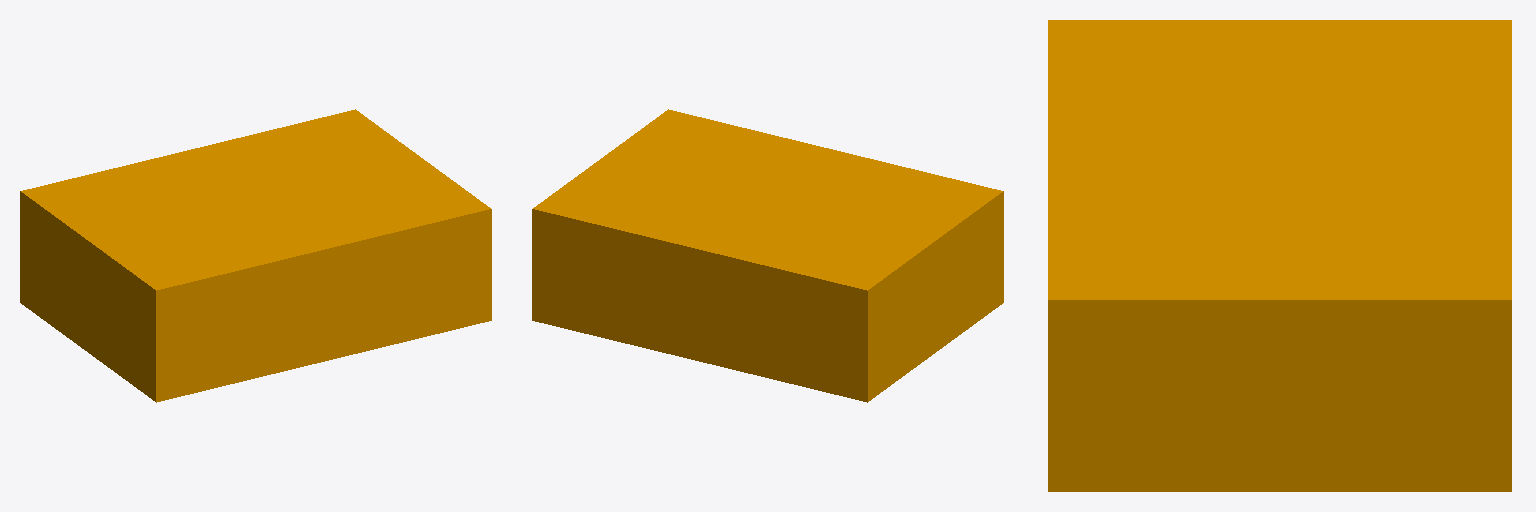
robot.urdf — 2x2:
<?xml version='1.0' encoding='UTF-8'?>
<robot name="2x2">
  <link name="base_link">
    <inertial>
      <origin xyz="0.0 0.0 0.0" rpy="0.0 0.0 0.0"/>
      <mass value="0.01"/>
      <inertia ixx="0.1" ixy="0.0" ixz="0.0" iyy="0.1" iyz="0.0" izz="0.1"/>
    </inertial>
    <visual>
      <geometry>
        <box size="0.047 0.033 0.015"/>
      </geometry>
      <material name=""/>
      <origin xyz="0.0 0.0 0.0" rpy="0.0 0.0 0.0"/>
    </visual>
    <collision>
      <geometry>
        <box size="0.047 0.033 0.015"/>
      </geometry>
      <origin xyz="0.0 0.0 0.0" rpy="0.0 0.0 0.0"/>
    </collision>
  </link>
  <material name="">
    <color rgba="0.158 0.921 0.728 1.   "/>
  </material>
  <contact>
    <lateral_friction value="1.0"/>
    <rolling_friction value="0.0"/>
    <contact_cfm value="0.0"/>
    <contact_erp value="1.0"/>
  </contact>
</robot>

--- Facts derived from the render (not from the file) ---
3 views of the same robot in one strip: view 1: azimuth 30°, elevation 25°; view 2: azimuth 150°, elevation 25°; view 3: azimuth 270°, elevation 25° (orthographic).
Model 2x2 with 1 links and 0 joints (none), rooted at base_link, posed all joints at 0.
Links seen in each view (by area): view 1: base_link; view 2: base_link; view 3: base_link.
Link boxes in pixels (x1,y1,x2,y2): base_link: (20,109,491,402); base_link: (532,109,1003,402); base_link: (1048,20,1511,491).
Size in the robot's own frame: 0.047 by 0.033 by 0.015 metres.
Geometry: primitives only (box / cylinder / sphere), no mesh files.